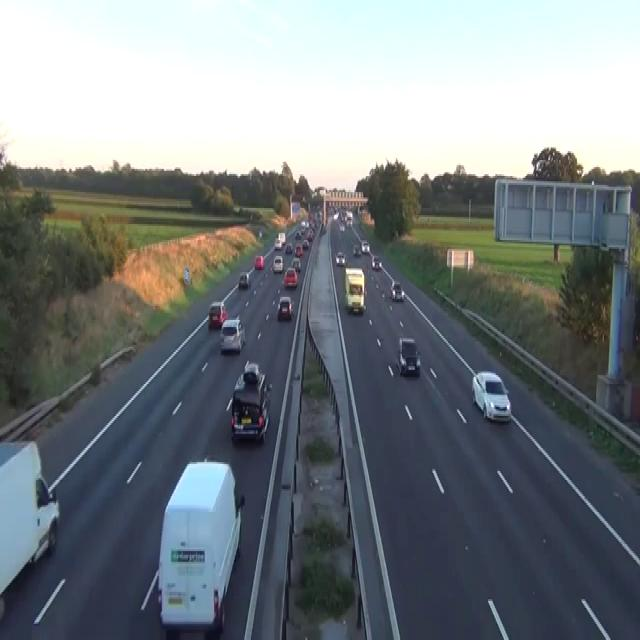Car: (230, 361, 272, 443), (471, 370, 511, 421), (219, 316, 245, 354), (396, 336, 420, 375), (208, 300, 228, 329), (333, 208, 353, 229), (277, 295, 293, 320), (244, 359, 259, 382), (390, 279, 404, 301), (283, 267, 298, 286), (238, 270, 249, 288), (272, 254, 283, 272), (254, 254, 264, 270), (335, 251, 345, 265), (371, 254, 381, 268), (360, 238, 370, 252), (291, 258, 301, 272), (353, 244, 361, 256), (295, 244, 303, 256), (274, 236, 281, 249), (339, 210, 346, 222), (285, 242, 293, 252), (320, 222, 326, 235), (306, 229, 313, 240), (302, 238, 308, 249), (233, 204, 240, 213), (300, 218, 306, 228), (294, 230, 301, 238), (446, 183, 454, 190), (299, 224, 305, 233), (339, 222, 344, 231), (258, 228, 262, 238), (333, 212, 338, 220)
Truck: (157, 459, 243, 633), (0, 437, 60, 617), (344, 267, 365, 313)
